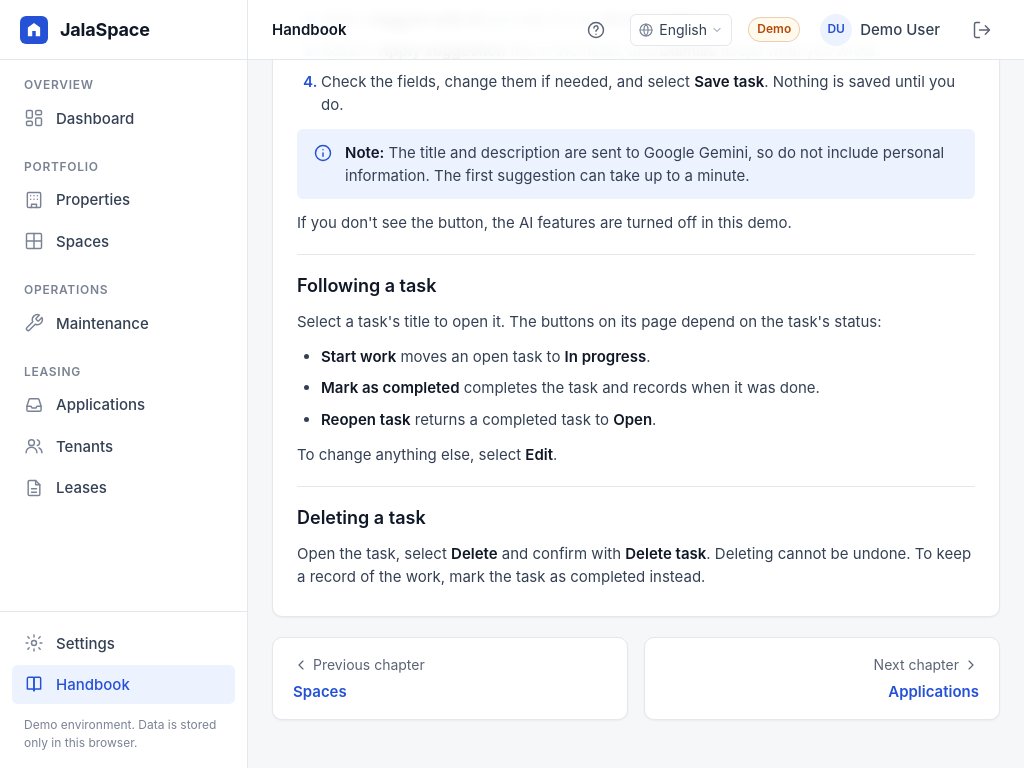
Scenario: handbook › moves to the previous and next chapters
(page scrolled)
Click the link "Next chapter Applications" at (916, 665), box x1=644 y1=637 x2=1000 y2=720
(page scrolled)
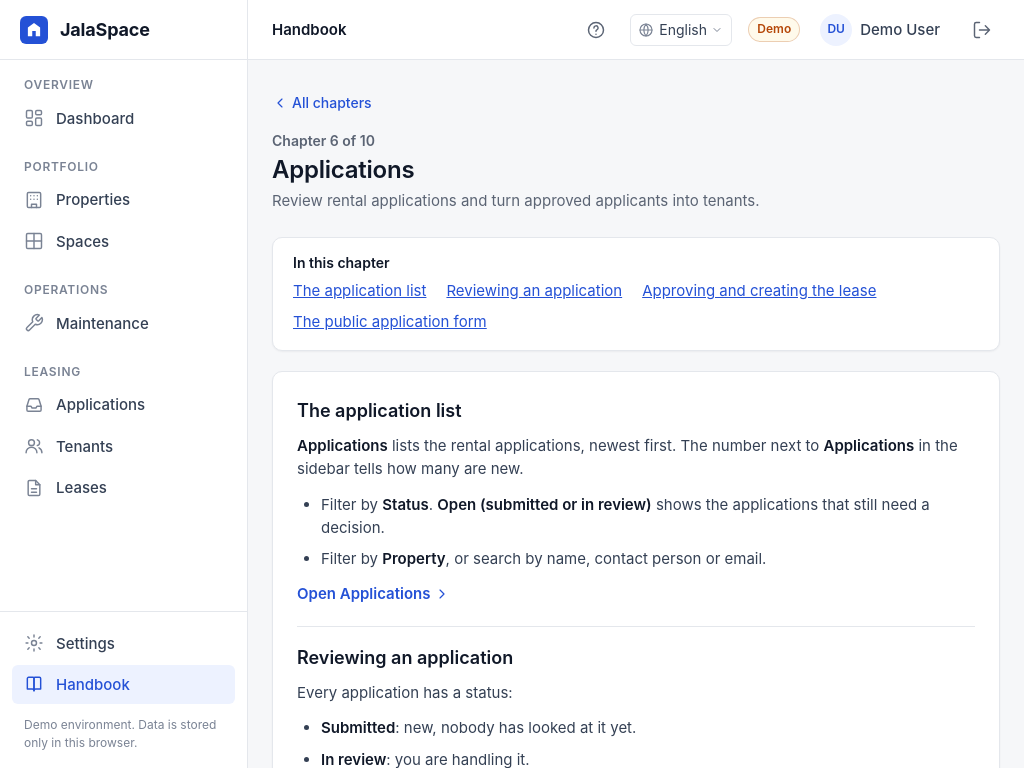
Expected: the heading "Applications" is shown, x1=272 y1=155 x2=414 y2=184
